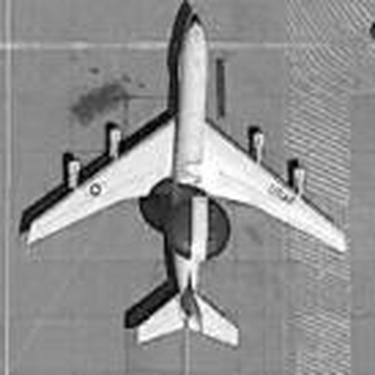airplane: (1, 9, 357, 362)
